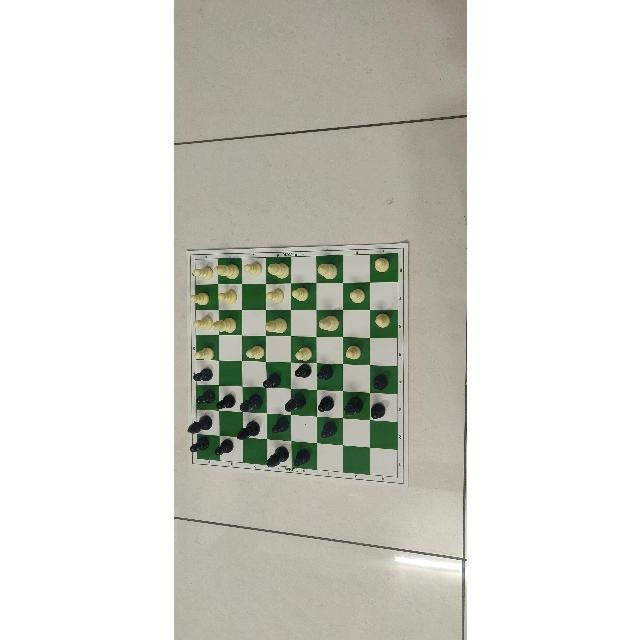black-bishop: (263, 445, 288, 469), (184, 414, 211, 435), (281, 392, 306, 413), (235, 421, 260, 441), (342, 396, 364, 418), (238, 394, 262, 414)
black-pawn: (316, 393, 336, 414), (317, 419, 338, 438), (270, 415, 290, 434), (291, 448, 310, 468), (216, 392, 236, 411), (213, 438, 232, 457), (370, 372, 389, 391), (195, 388, 213, 408), (192, 367, 212, 384), (189, 437, 210, 453), (294, 362, 312, 379), (369, 400, 385, 419), (262, 373, 282, 388), (316, 365, 335, 380)
white-bishop: (213, 261, 239, 281), (211, 316, 236, 333), (263, 317, 287, 333), (266, 263, 290, 279), (317, 315, 338, 333), (316, 263, 337, 279)
white-pawn: (188, 289, 209, 309), (217, 287, 237, 307), (192, 263, 212, 283), (242, 261, 262, 279), (192, 313, 211, 331), (193, 347, 215, 361), (264, 289, 284, 304), (244, 345, 264, 359), (348, 288, 365, 304), (344, 345, 361, 361), (294, 346, 312, 361), (373, 313, 390, 328), (290, 287, 307, 302), (373, 257, 388, 272)
